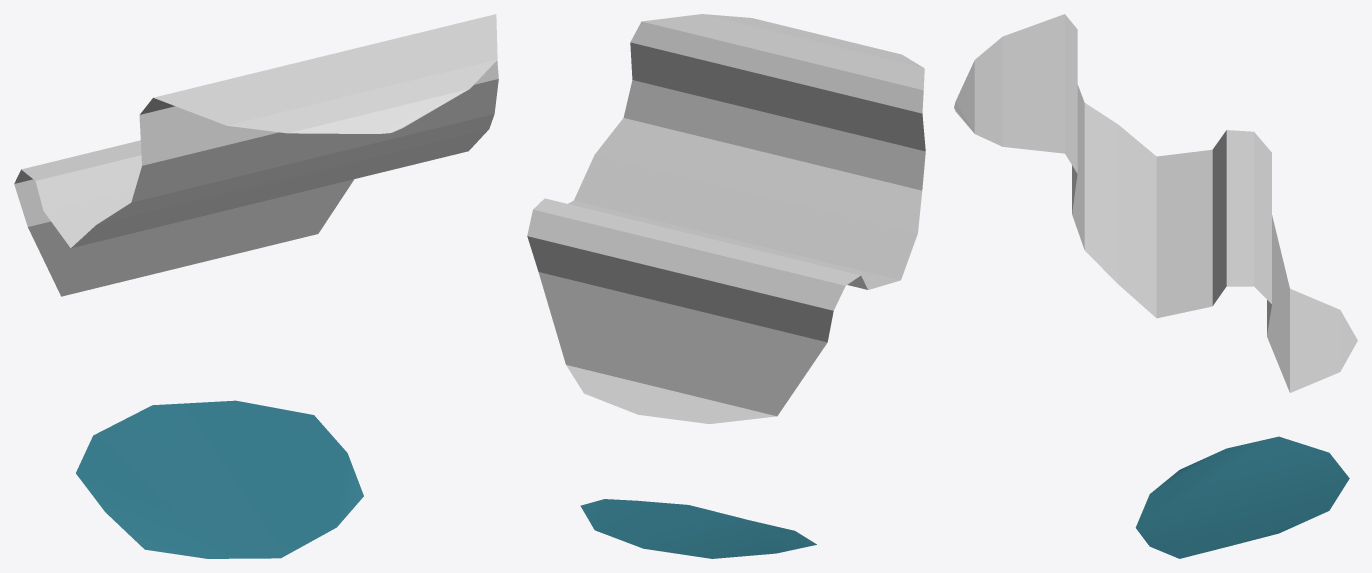
File: zo_hof_visage_interface.max.fbx
3 renders of one model, left to right at view 1: azimuth 30°, elevation 25°; view 2: azimuth 150°, elevation 25°; view 3: azimuth 270°, elevation 25°, orthographic. The views are drawn at different scales.
Visible parts, largest first — view 1: ZO_HOF_visage_interface, int_cou_tet; view 2: ZO_HOF_visage_interface, int_cou_tet; view 3: ZO_HOF_visage_interface, int_cou_tet.
Part boxes in pixels (<box>): ZO_HOF_visage_interface: <box>14,14,498,296</box>; int_cou_tet: <box>76,400,363,558</box>; ZO_HOF_visage_interface: <box>527,14,925,424</box>; int_cou_tet: <box>580,499,816,558</box>; ZO_HOF_visage_interface: <box>954,14,1357,392</box>; int_cou_tet: <box>1135,436,1349,558</box>.
Size of the model in its own units: 0.1318 by 0.1688 by 0.139.
